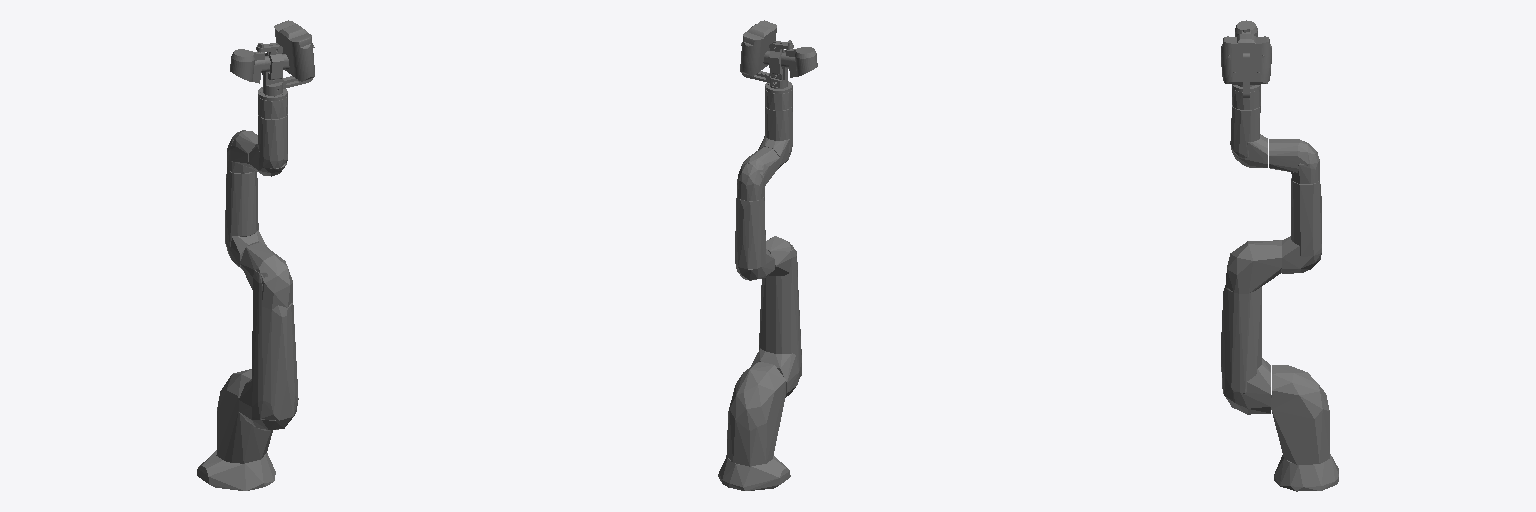
The robot description file, URDF, robot "hyumm_scan":
<?xml version="1.0" encoding="utf-8"?>
<!-- HYUMM Scan Mobile Manipulator URDF
     Base joints (lin_x, lin_y, rot_z) removed - OCS2 adds virtual joints internally
-->
<robot name="hyumm_scan">
  <material name="black">
    <color rgba="0.0 0.0 0.0 1.0"/>
  </material>
  <material name="blue">
    <color rgba="0.0 0.0 0.8 1.0"/>
  </material>
  <material name="green">
    <color rgba="0.0 0.8 0.0 1.0"/>
  </material>
  <material name="grey_">
    <color rgba="0.2 0.2 0.2 1.0"/>
  </material>
  <material name="orange">
    <color rgba="1.0 0.4235294117647059 0.0392156862745098 1.0"/>
  </material>
  <material name="brown">
    <color rgba="0.8705882352941177 0.8117647058823529 0.7647058823529411 1.0"/>
  </material>
  <material name="red">
    <color rgba="0.8 0.0 0.0 1.0"/>
  </material>
  <material name="white">
    <color rgba="1.0 1.0 1.0 1.0"/>
  </material>
  <material name="metal">
    <color rgba="0.768627450980392 0.749019607843137 0.729411764705882 1"/>
  </material>
  <material name="metal_grey">
    <color rgba="0.501960784313725 0.501960784313725 0.501960784313725 1"/>
  </material>
  <material name="metal_white">
    <color rgba="0.866666666666667 0.866666666666667 0.890196078431373 1"/>
  </material>

  <!-- Mobile Base -->
  <link name="base_link">
    <inertial>
      <origin xyz="-0.02314163 0 0.14646583" rpy="0 0 0" />
      <mass value="53.53736408" />
      <inertia
        ixx="1.81165434"
        ixy="0.01131605"
        ixz="0.08235226"
        iyy="4.92583072"
        iyz="0.00000413"
        izz="6.44882489" />
    </inertial>
    <visual>
      <origin xyz="0 0 0" rpy="0 0 0" />
      <geometry>
        <mesh filename="package://hyumm_description/meshes/base/base_link.STL" />
      </geometry>
      <material name="">
        <color rgba="0.79216 0.81961 0.93333 1" />
      </material>
    </visual>
    <collision>
      <origin xyz="-0.5 -0.325 0" rpy="0 0 0" />
      <geometry>
        <mesh filename="package://hyumm_description/meshes/base/base_collision.STL"/>
      </geometry>
    </collision>
  </link>

  <!-- Manipulator Indy7 -->
  <link name="link0">
    <visual>
      <origin rpy="0 0 0" xyz="0 0 0"/>
      <geometry>
        <mesh filename="package://hyumm_description/meshes/indy7/visual/Indy7_0.stl"/>
      </geometry>
      <material name="metal_grey"/>
    </visual>
    <collision>
      <origin rpy="0 0 0" xyz="0 0 0"/>
      <geometry>
        <mesh filename="package://hyumm_description/meshes/indy7/collision/Indy7_0.stl"/>
      </geometry>
    </collision>
    <inertial>
      <origin xyz="0.00131966 -0.00000218 0.03212832" rpy="0 0 0"/>
      <mass value="1.67030785"/>
      <inertia ixx="+0.00661309" iyy="+0.00644765" izz="+0.00792090" ixy="+0.00000183" iyz="-0.00000027" ixz="+0.00002695"/>
    </inertial>
  </link>
  <link name="link1">
    <visual>
      <origin rpy="0 0 0" xyz="0 0 0"/>
      <geometry>
        <mesh filename="package://hyumm_description/meshes/indy7/visual/Indy7_1.stl"/>
      </geometry>
      <material name="metal_grey"/>
    </visual>
    <collision>
      <origin rpy="0 0 0" xyz="0 0 0"/>
      <geometry>
        <mesh filename="package://hyumm_description/meshes/indy7/collision/Indy7_1.stl"/>
      </geometry>
    </collision>
    <inertial>
      <origin xyz="-0.00023749 -0.04310313 0.13245396" rpy="0 0 0"/>
      <mass value="11.44444535"/>
      <inertia ixx="+0.35065005" iyy="+0.30479800" izz="+0.06003147" ixy="+0.00011931" iyz="-0.10984447" ixz="-0.00037553"/>
    </inertial>
  </link>
  <link name="link2">
    <visual>
      <origin rpy="0 0 0" xyz="0 0 0"/>
      <geometry>
        <mesh filename="package://hyumm_description/meshes/indy7/visual/Indy7_2.stl"/>
      </geometry>
      <material name="metal_grey"/>
    </visual>
    <collision>
      <origin rpy="0 0 0" xyz="0 0 0"/>
      <geometry>
        <mesh filename="package://hyumm_description/meshes/indy7/collision/Indy7_2.stl"/>
      </geometry>
    </collision>
    <inertial>
      <origin xyz="-0.29616699 0.00002254 0.04483069" rpy="0 0 0"/>
      <mass value="5.84766553"/>
      <inertia ixx="+0.03599743" iyy="+0.72293306" izz="+0.70024119" ixy="-0.00004693" iyz="+0.00000176" ixz="-0.05240346"/>
    </inertial>
  </link>
  <link name="link3">
    <visual>
      <origin rpy="0 0 0" xyz="0 0 0"/>
      <geometry>
        <mesh filename="package://hyumm_description/meshes/indy7/visual/Indy7_3.stl"/>
      </geometry>
      <material name="metal_grey"/>
    </visual>
    <collision>
      <origin rpy="0 0 0" xyz="0 0 0"/>
      <geometry>
        <mesh filename="package://hyumm_description/meshes/indy7/collision/Indy7_3.stl"/>
      </geometry>
    </collision>
    <inertial>
      <origin xyz="-0.16804016 0.00021421 -0.07000383" rpy="0 0 0"/>
      <mass value="2.68206064"/>
      <inertia ixx="+0.01617210" iyy="+0.11364055" izz="+0.10022522" ixy="-0.00011817" iyz="-0.00004371" ixz="+0.03341882"/>
    </inertial>
  </link>
  <link name="link4">
    <visual>
      <origin rpy="0 0 0" xyz="0 0 0"/>
      <geometry>
        <mesh filename="package://hyumm_description/meshes/indy7/visual/Indy7_4.stl"/>
      </geometry>
      <material name="metal_grey"/>
    </visual>
    <collision>
      <origin rpy="0 0 0" xyz="0 0 0"/>
      <geometry>
        <mesh filename="package://hyumm_description/meshes/indy7/collision/Indy7_4.stl"/>
      </geometry>
    </collision>
    <inertial>
      <origin xyz="-0.00026847 -0.07098440 0.07649128" rpy="0 0 0"/>
      <mass value="2.12987371"/>
      <inertia ixx="+0.02798891" iyy="+0.01443076" izz="+0.01496211" ixy="+0.00003893" iyz="-0.01266296" ixz="-0.00004768"/>
    </inertial>
  </link>
  <link name="link5">
    <visual>
      <origin rpy="0 0 0" xyz="0 0 0"/>
      <geometry>
        <mesh filename="package://hyumm_description/meshes/indy7/visual/Indy7_5.stl"/>
      </geometry>
      <material name="metal_grey"/>
    </visual>
    <collision>
      <origin rpy="0 0 0" xyz="0 0 0"/>
      <geometry>
        <mesh filename="package://hyumm_description/meshes/indy7/collision/Indy7_5.stl"/>
      </geometry>
    </collision>
    <inertial>
      <origin xyz="-0.09796232 -0.00023114 0.06445892" rpy="0 0 0"/>
      <mass value="2.22412271"/>
      <inertia ixx="+0.01105297" iyy="+0.03698291" izz="+0.02754795" ixy="+0.00005517" iyz="-0.00003740" ixz="-0.01481977"/>
    </inertial>
  </link>
  <link name="link6">
    <visual>
      <origin rpy="0 0 0" xyz="0 0 0"/>
      <geometry>
        <mesh filename="package://hyumm_description/meshes/indy7/visual/Indy7_6.stl"/>
      </geometry>
      <material name="metal_grey"/>
    </visual>
    <collision>
      <origin rpy="0 0 0" xyz="0 0 0"/>
      <geometry>
        <mesh filename="package://hyumm_description/meshes/indy7/collision/Indy7_6.stl"/>
      </geometry>
    </collision>
    <inertial>
      <origin xyz="0.00008147 -0.00046556 0.03079097" rpy="0 0 0"/>
      <mass value="0.38254932"/>
      <inertia ixx="+0.00078982" iyy="+0.00079764" izz="+0.00058319" ixy="-0.00000034" iyz="-0.00000508" ixz="+0.00000083"/>
    </inertial>
  </link>
  <link name="link_scanner">
    <visual>
      <origin rpy="0 0 0" xyz="0 0 0"/>
      <geometry>
        <mesh filename="package://hyumm_description/meshes/indy7/visual/scanner.stl"/>
      </geometry>
      <material name="metal_grey"/>
    </visual>
    <collision>
      <origin rpy="0 0 0" xyz="0 0 0"/>
      <geometry>
        <mesh filename="package://hyumm_description/meshes/indy7/collision/scanner.stl"/>
      </geometry>
    </collision>
    <inertial>
      <origin xyz="0.03402729 0.00001589 0.11025973" rpy="0 0 0"/>
      <mass value="1.305"/>
      <inertia ixx="0.00403396" iyy="-0.00000111" izz="0.00032561" ixy="0.00874370" iyz="-0.00000018" ixz="0.00742055"/>
    </inertial>
  </link>
  <link name="tcp">
    <inertial>
      <mass value="0" />
      <origin xyz="0.0 0.0 0.0" rpy="0 0 0" />
      <inertia ixx="0" ixy="0" ixz="0" iyy="0" iyz="0" izz="0" />
    </inertial>
  </link>

  <!-- Joints -->
  <joint name="base_flange" type="fixed">
    <parent link="base_link"/>
    <child link="link0"/>
    <origin xyz="0.3 0 0.228" rpy="0 0 0"/>
  </joint>
  <joint name="joint0" type="revolute">
    <parent link="link0"/>
    <child link="link1"/>
    <origin rpy="0 0 0" xyz="0 0 0.0775"/>
    <axis xyz="0 0 1"/>
    <limit effort="10" lower="-3.0543261909900763" upper="3.0543261909900763" velocity="1"/>
  </joint>
  <joint name="joint1" type="revolute">
    <parent link="link1"/>
    <child link="link2"/>
    <origin rpy="1.5707963267948966 1.5707963267948966 0" xyz="0 -0.10900000 0.22200000"/>
    <axis xyz="0 0 1"/>
    <limit effort="10" lower="-3.0543261909900763" upper="3.0543261909900763" velocity="1"/>
  </joint>
  <joint name="joint2" type="revolute">
    <parent link="link2"/>
    <child link="link3"/>
    <origin rpy="0 0 0" xyz="-0.45000000 +0.00000000 -0.03050000"/>
    <axis xyz="0 0 1"/>
    <limit effort="10" lower="-3.0543261909900763" upper="3.0543261909900763" velocity="1"/>
  </joint>
  <joint name="joint3" type="revolute">
    <parent link="link3"/>
    <child link="link4"/>
    <origin rpy="-1.5707963267948966 0 1.5707963267948966" xyz="-0.26700000 +0.00000000 -0.07500000"/>
    <axis xyz="0 0 1"/>
    <limit effort="10" lower="-3.0543261909900763" upper="3.0543261909900763" velocity="1"/>
  </joint>
  <joint name="joint4" type="revolute">
    <parent link="link4"/>
    <child link="link5"/>
    <origin rpy="1.5707963267948966 1.5707963267948966 0" xyz="+0.00000000 -0.11400000 +0.08300000"/>
    <axis xyz="0 0 1"/>
    <limit effort="10" lower="-3.0543261909900763" upper="3.0543261909900763" velocity="1"/>
  </joint>
  <joint name="joint5" type="revolute">
    <parent link="link5"/>
    <child link="link6"/>
    <origin rpy="-1.5707963267948966 0 1.5707963267948966" xyz="-0.16800000 +0.00000000 +0.06900000"/>
    <axis xyz="0 0 1"/>
    <limit effort="10" lower="-3.752457891787808" upper="3.752457891787808" velocity="1"/>
  </joint>
  <joint name="fixed_scanner" type="fixed">
    <parent link="link6"/>
    <child link="link_scanner"/>
    <origin rpy="0 0 0" xyz="0 0 0.0615"/>
  </joint>
  <joint name="indy7_tcp" type="fixed">
    <parent link="link_scanner"/>
    <child link="tcp"/>
    <origin rpy="3.2531185 0.0 -1.57079" xyz="0.06906692 0.00036944 0.19936873"/>
  </joint>

</robot>

--- What the picture shows (computed from the rendered views, not written in the file) ---
The picture shows the robot from 3 angles, left to right: view 1: azimuth 30°, elevation 25°; view 2: azimuth 150°, elevation 25°; view 3: azimuth 270°, elevation 25°; orthographic projection.
Robot: hyumm_scan — 10 links, 9 joints (6 revolute, 3 fixed); root link base_link; default pose: all joints at 0.
Visible links, largest first — view 1: link2, link_scanner, link1, link3, link0, link5, link4, link6; view 2: link2, link1, link_scanner, link3, link0, link4, link5; view 3: link2, link1, link3, link_scanner, link5, link4, link0.
Link boxes in pixels (x1,y1,x2,y2): link2: (239, 242, 298, 430); link_scanner: (230, 20, 314, 100); link1: (216, 369, 272, 463); link3: (225, 169, 267, 269); link0: (197, 450, 275, 490); link5: (249, 114, 287, 176); link4: (227, 130, 257, 173); link6: (258, 96, 287, 119); link2: (751, 236, 801, 397); link1: (726, 362, 785, 466); link_scanner: (740, 20, 817, 93); link3: (735, 197, 774, 280); link0: (718, 456, 790, 490); link4: (737, 147, 779, 200); link5: (758, 106, 792, 168); link2: (1221, 240, 1281, 414); link1: (1271, 365, 1329, 464); link3: (1282, 178, 1321, 273); link_scanner: (1221, 20, 1271, 97); link5: (1230, 105, 1267, 167); link4: (1269, 139, 1319, 183); link0: (1274, 454, 1338, 491).
Size in the robot's own frame: 0.2766 by 0.3651 by 1.53 metres.
8 mesh visuals loaded from 9 distinct referenced files (8 binary STL); not drawn: 1 (reference not matched to a file when rendering).
